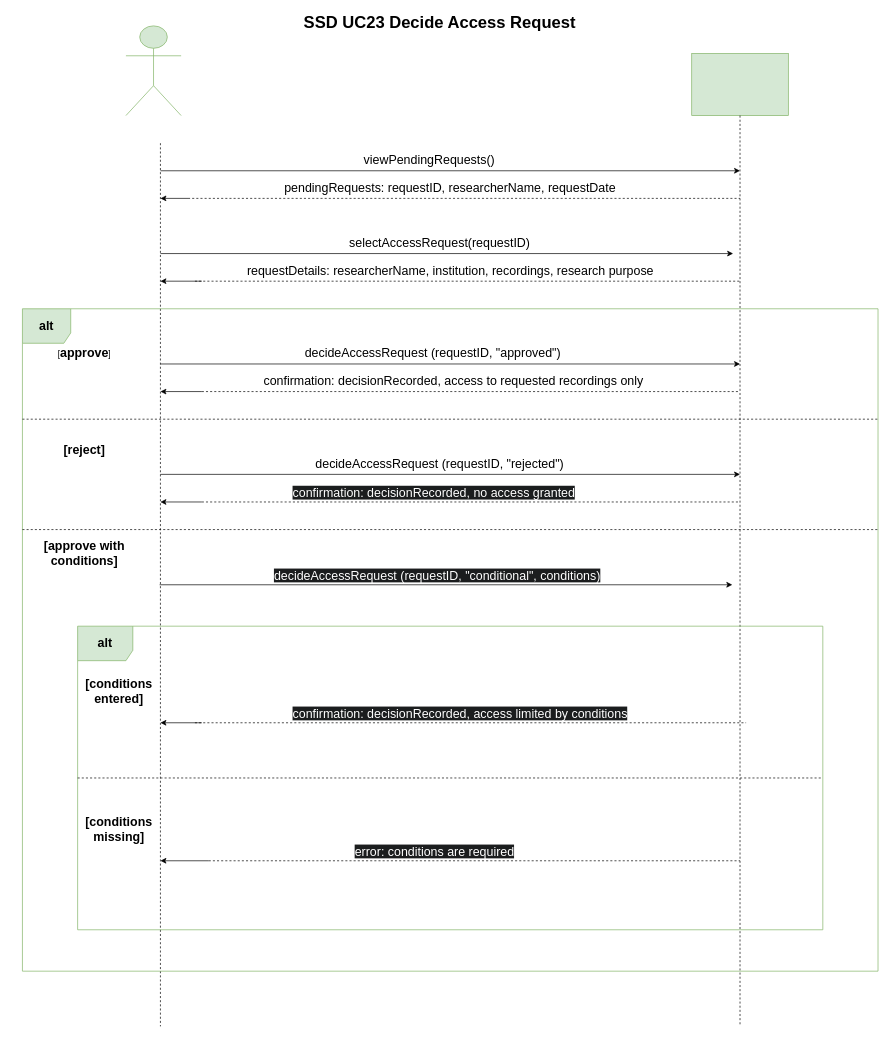
The diagram is 891 pixels wide and 1039 high, and some of its shapes have lost their labels. The box of each missing label's shape, as (x1, y1, x2, y2) in pixels:
:System: (691, 53, 788, 116)
Community council member: (125, 25, 181, 116)
